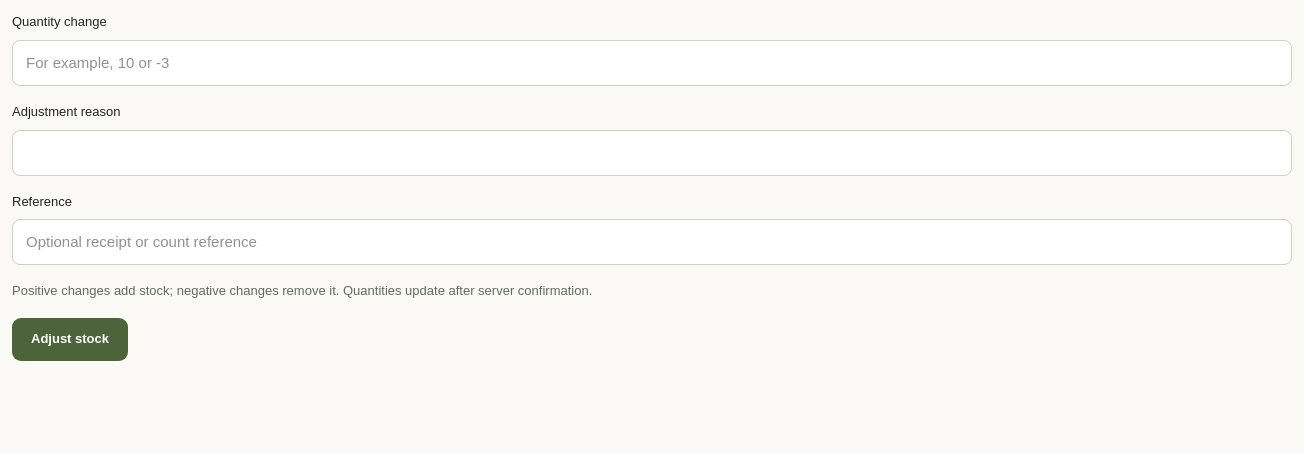
Test: warns below reserved stock and sends the signed adjustment without inventing a final stock result
Step 1. Type "-4" into the field labelled "Quantity change" → (652, 63), box [12, 40, 1292, 86]
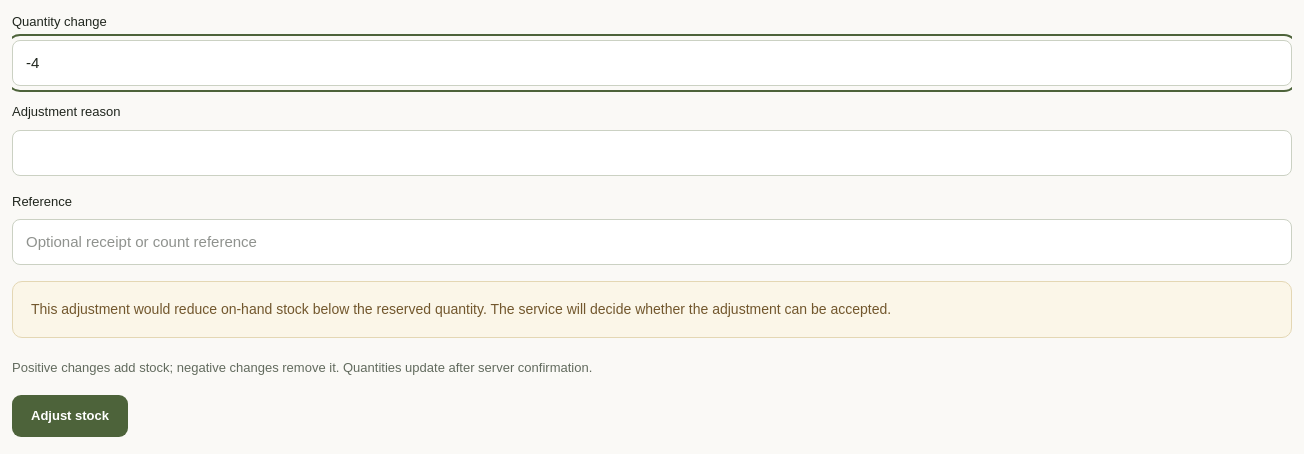
Step 2. Type "Damaged count" into the field labelled "Adjustment reason" → (652, 153), box [12, 130, 1292, 176]
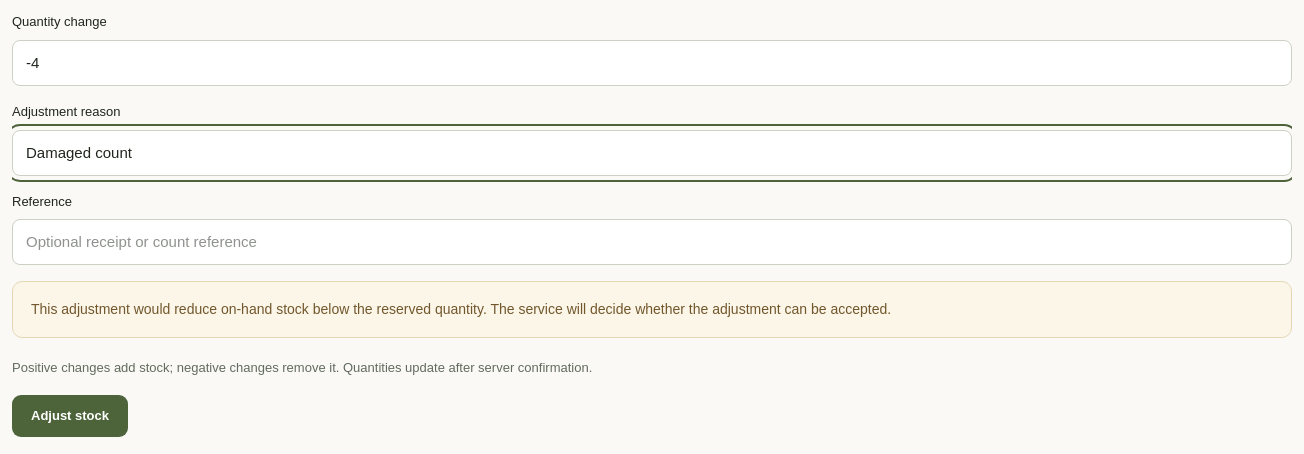
Step 3. Type "COUNT-12" into the field labelled "Reference" → (652, 242), box [12, 219, 1292, 265]
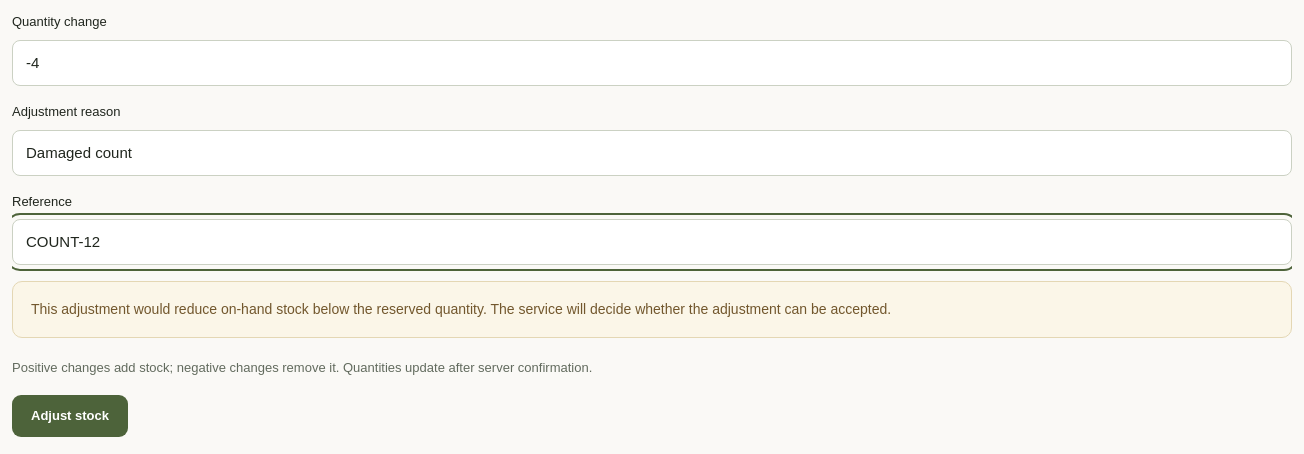
Now the text "below the reserved quantity" is shown, box [31, 301, 891, 317]
Step 4. Click the button "Adjust stock" → (70, 416), box [12, 395, 128, 437]
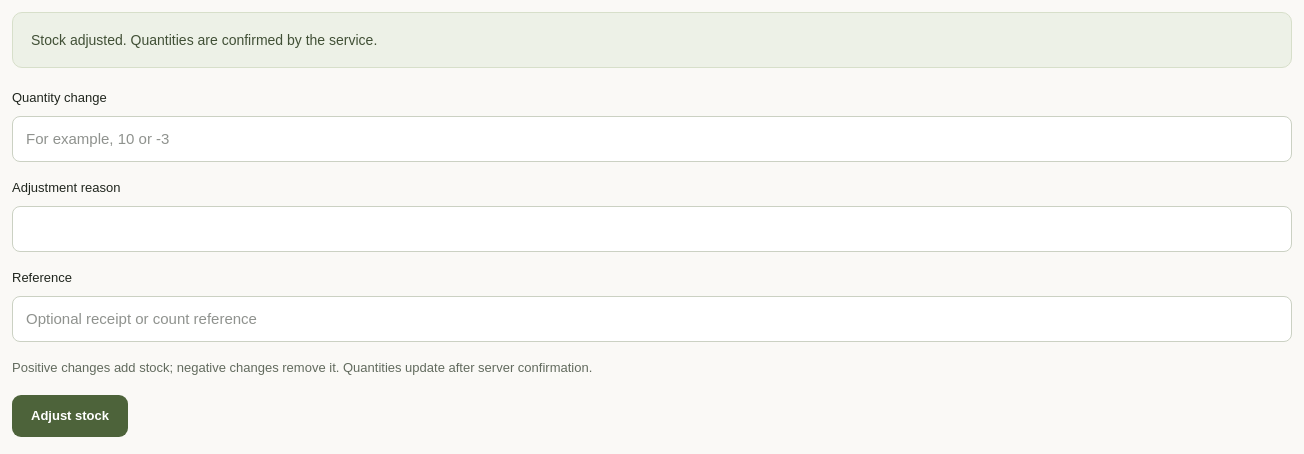
Now the text "Stock adjusted. Quantities are confirmed by the service." is shown, box [12, 12, 1292, 68]
